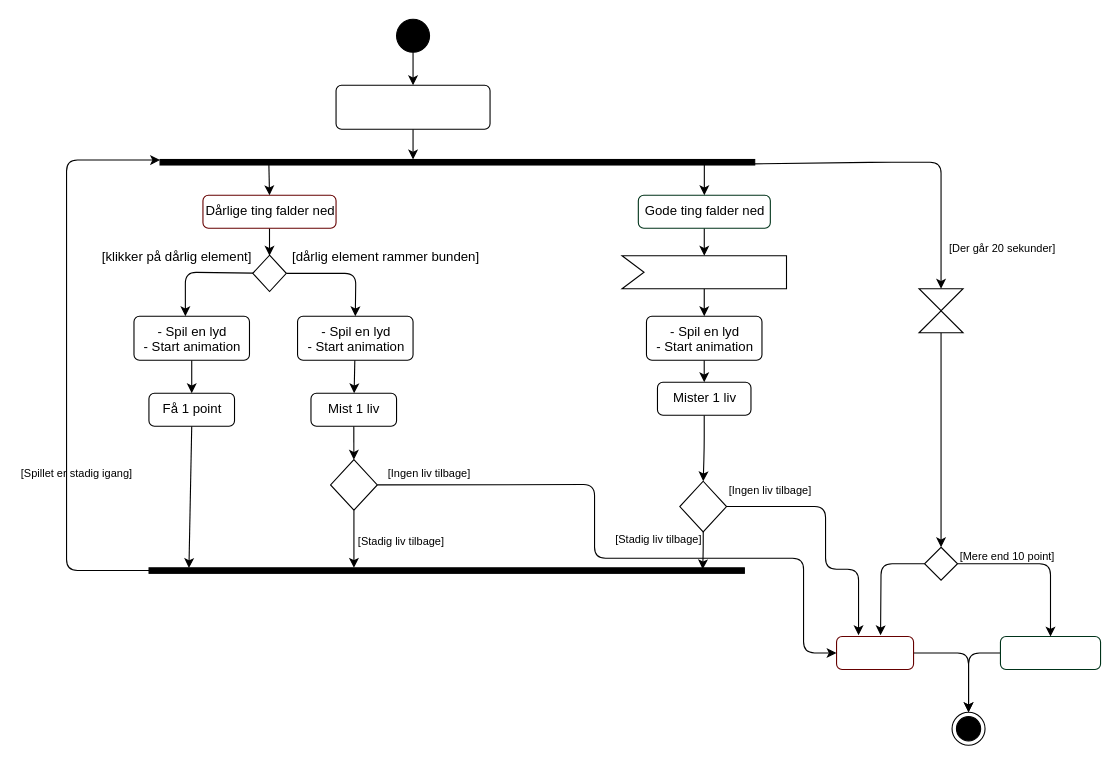
Image size: 1120x765. Some labels were removed from this diagram. The shapes that lost their labels are listed below. From the top down, each one's centre as x and y in pixels, then its label:
At (412,106): "Baggrundsmusik starter".
At (704,272): "klikker på god ting".
At (874,652): "Game over".
At (1050,652): "Level Complete".
